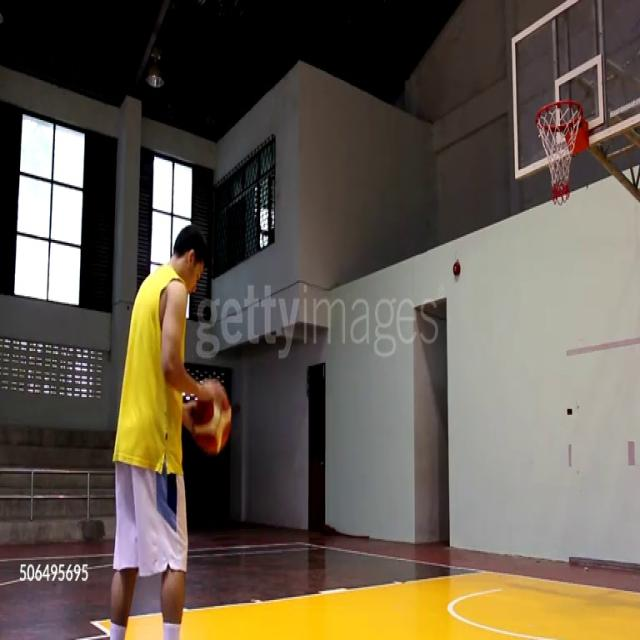ball: (188, 379, 232, 456)
